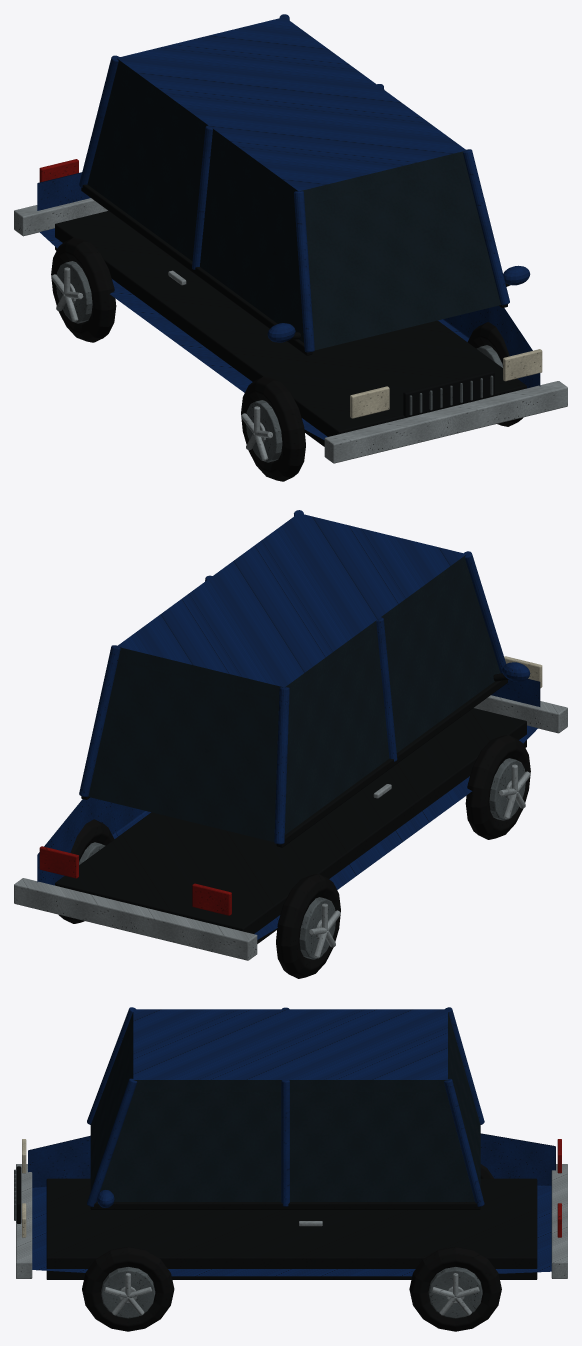
The model's file is PROP-8209AA61FCC5_lod0.glb.
3 views of the same model, one above another, from view 1: azimuth 30°, elevation 25°; view 2: azimuth 150°, elevation 25°; view 3: azimuth 270°, elevation 25° (orthographic). The views are drawn at different scales.
Parts seen in each view (by area): view 1: sloped_cabin_glazing.030, roof_panel.028, chassis.030, bumper.030, tire.030, shaped_body_panels.030, window_pillars.030, rim.030, window_belt.030, radiator_grille.030, lamp_lenses.060, rim_spokes.030 (+3 smaller); view 2: sloped_cabin_glazing.030, roof_panel.028, chassis.030, bumper.030, tire.030, shaped_body_panels.030, window_pillars.030, rim.030, window_belt.030, lamp_lenses.061, rim_spokes.030; view 3: sloped_cabin_glazing.030, chassis.030, roof_panel.028, shaped_body_panels.030, tire.030, window_pillars.030, rim.030, bumper.030, window_belt.030, rim_spokes.030.
Boxes of the visible parts, left/top/right/bottom form: sloped_cabin_glazing.030: left=87, top=58, right=500, bottom=350; roof_panel.028: left=117, top=17, right=466, bottom=191; chassis.030: left=55, top=211, right=526, bottom=446; bumper.030: left=14, top=198, right=567, bottom=463; tire.030: left=51, top=237, right=523, bottom=481; shaped_body_panels.030: left=37, top=172, right=540, bottom=439; window_pillars.030: left=79, top=14, right=509, bottom=352; rim.030: left=56, top=261, right=502, bottom=462; window_belt.030: left=81, top=184, right=507, bottom=355; radiator_grille.030: left=403, top=371, right=494, bottom=416; lamp_lenses.060: left=350, top=349, right=542, bottom=418; rim_spokes.030: left=51, top=267, right=272, bottom=460; sloped_cabin_glazing.030: left=88, top=555, right=500, bottom=841; roof_panel.028: left=117, top=513, right=466, bottom=687; chassis.030: left=55, top=708, right=526, bottom=943; bumper.030: left=14, top=695, right=567, bottom=960; tire.030: left=59, top=735, right=530, bottom=978; shaped_body_panels.030: left=37, top=679, right=540, bottom=939; window_pillars.030: left=79, top=510, right=506, bottom=844; rim.030: left=79, top=758, right=525, bottom=959; window_belt.030: left=81, top=680, right=507, bottom=847; lamp_lenses.061: left=39, top=846, right=231, bottom=915; rim_spokes.030: left=309, top=764, right=530, bottom=958; sloped_cabin_glazing.030: left=90, top=1012, right=480, bottom=1201; chassis.030: left=46, top=1178, right=537, bottom=1279; roof_panel.028: left=133, top=1009, right=447, bottom=1079; shaped_body_panels.030: left=28, top=1133, right=555, bottom=1276; tire.030: left=82, top=1164, right=501, bottom=1331; window_pillars.030: left=87, top=1007, right=484, bottom=1206; rim.030: left=101, top=1267, right=482, bottom=1318; bumper.030: left=16, top=1164, right=567, bottom=1278; window_belt.030: left=90, top=1202, right=480, bottom=1209; rim_spokes.030: left=104, top=1273, right=479, bottom=1315.
Size of the model in its own units: 2.09 by 2.11 by 4.41.
Materials: 8 (8 with a texture image).
